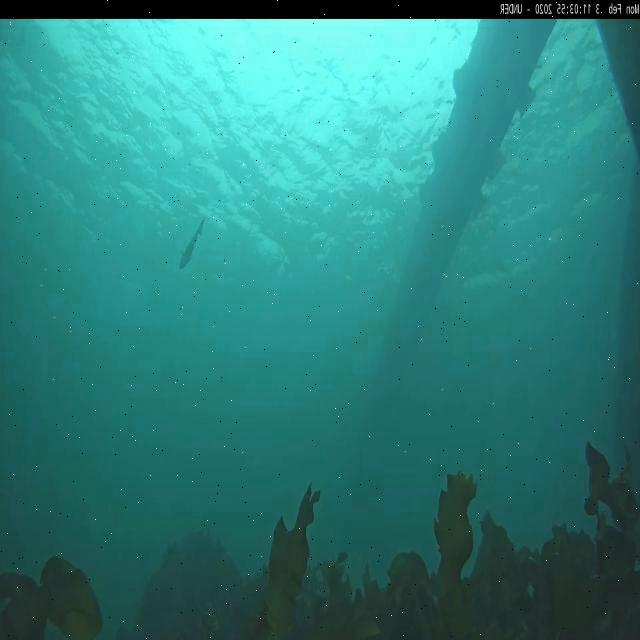fish: (178, 217, 206, 272)
